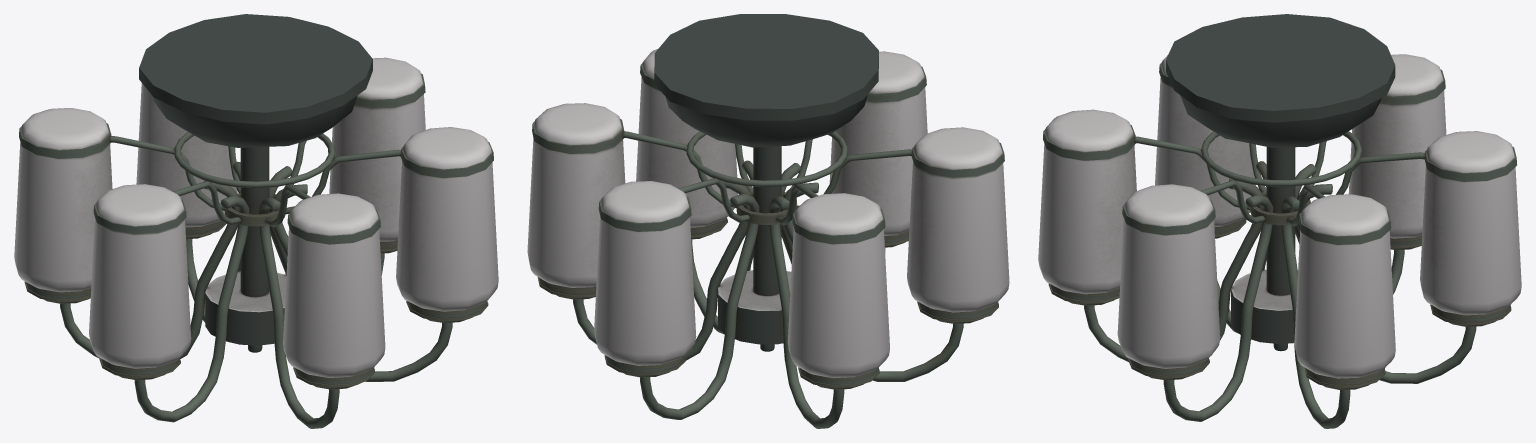
Rendered from SM_LightingLighting.fbx.
The picture shows the model from 3 angles, left to right: view 1: azimuth 30°, elevation 25°; view 2: azimuth 150°, elevation 25°; view 3: azimuth 270°, elevation 25°; orthographic projection.
Parts seen in each view (by area): view 1: SM_LightingLighting; view 2: SM_LightingLighting; view 3: SM_LightingLighting.
Boxes of the visible parts, left/top/right/bottom form: SM_LightingLighting: left=14, top=14, right=498, bottom=428; SM_LightingLighting: left=527, top=14, right=1009, bottom=428; SM_LightingLighting: left=1038, top=14, right=1521, bottom=428.
Size of the model in its own units: 61.8 by 65.17 by 46.58.
Materials: 1 (1 with a texture image).
